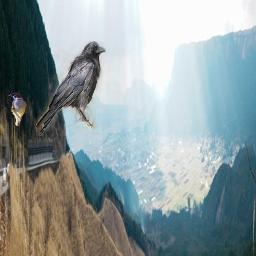Crow: (36, 41, 106, 136)
Sparrow: (8, 92, 27, 126)
